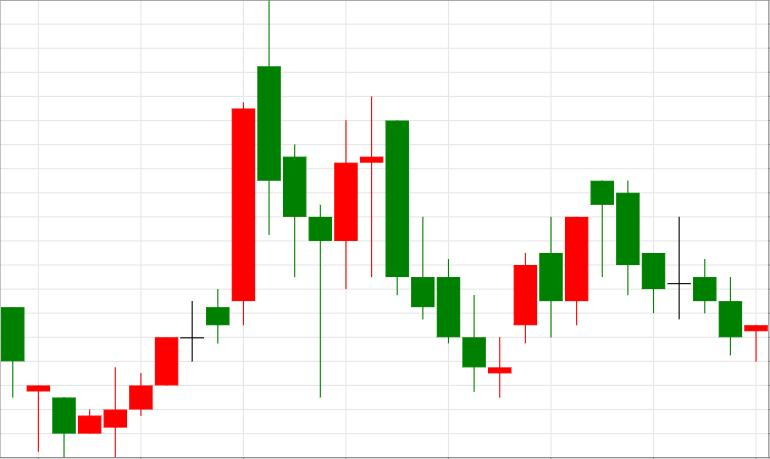hanging_man_fall: (489, 180, 613, 396)
morning_star_rise: (386, 122, 536, 397)
